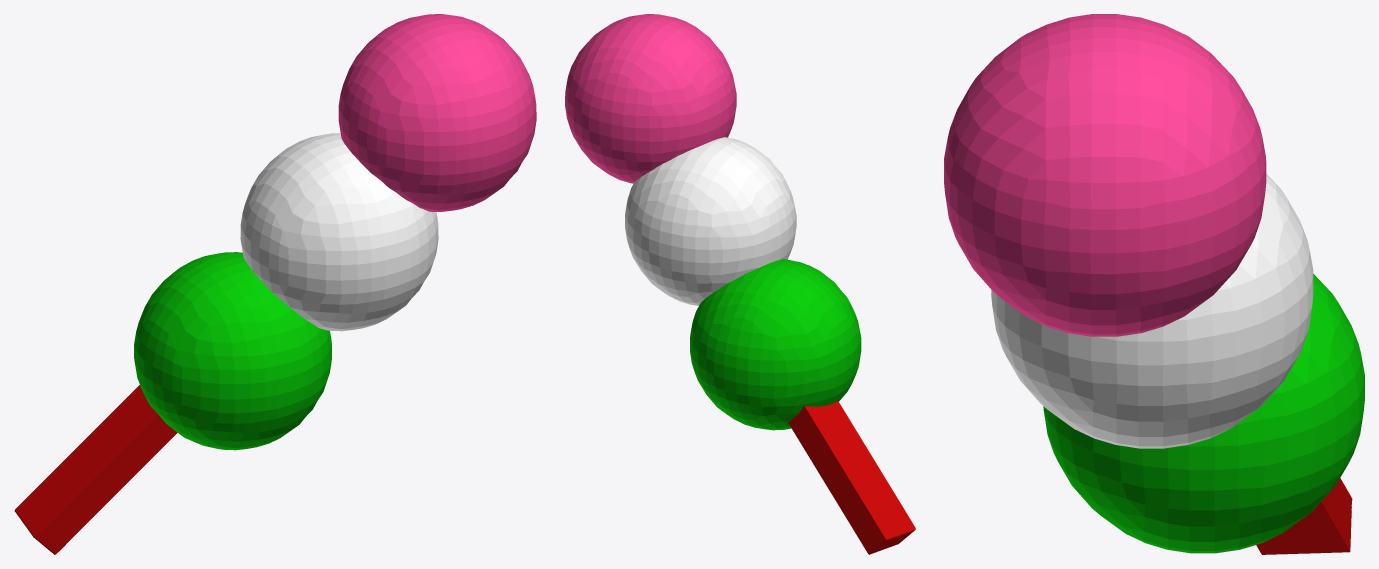
File: dango.obj
3 renders of one model, left to right at view 1: azimuth 30°, elevation 25°; view 2: azimuth 150°, elevation 25°; view 3: azimuth 270°, elevation 25°, orthographic. The views are drawn at different scales.
Visible parts, largest first — view 1: SubTool-10-10345579.008, SubTool-12-10345579.008, SubTool-11-10345579.008, SubTool-9-13009072.008; view 2: SubTool-12-10345579.008, SubTool-10-10345579.008, SubTool-11-10345579.008, SubTool-9-13009072.008; view 3: SubTool-10-10345579.008, SubTool-11-10345579.008, SubTool-12-10345579.008, SubTool-9-13009072.008.
Part boxes in pixels (box(x1,y1,x2,y2)): SubTool-10-10345579.008: box(338, 14, 536, 211); SubTool-12-10345579.008: box(134, 252, 331, 450); SubTool-11-10345579.008: box(240, 133, 438, 331); SubTool-9-13009072.008: box(14, 385, 177, 554); SubTool-12-10345579.008: box(690, 259, 861, 430); SubTool-10-10345579.008: box(565, 14, 736, 183); SubTool-11-10345579.008: box(625, 137, 796, 305); SubTool-9-13009072.008: box(788, 401, 915, 554); SubTool-10-10345579.008: box(944, 14, 1266, 336); SubTool-11-10345579.008: box(991, 174, 1313, 448); SubTool-12-10345579.008: box(1043, 274, 1364, 553); SubTool-9-13009072.008: box(1256, 478, 1352, 554).
Size of the model in its own units: 0.8246 by 0.8684 by 0.4179.
